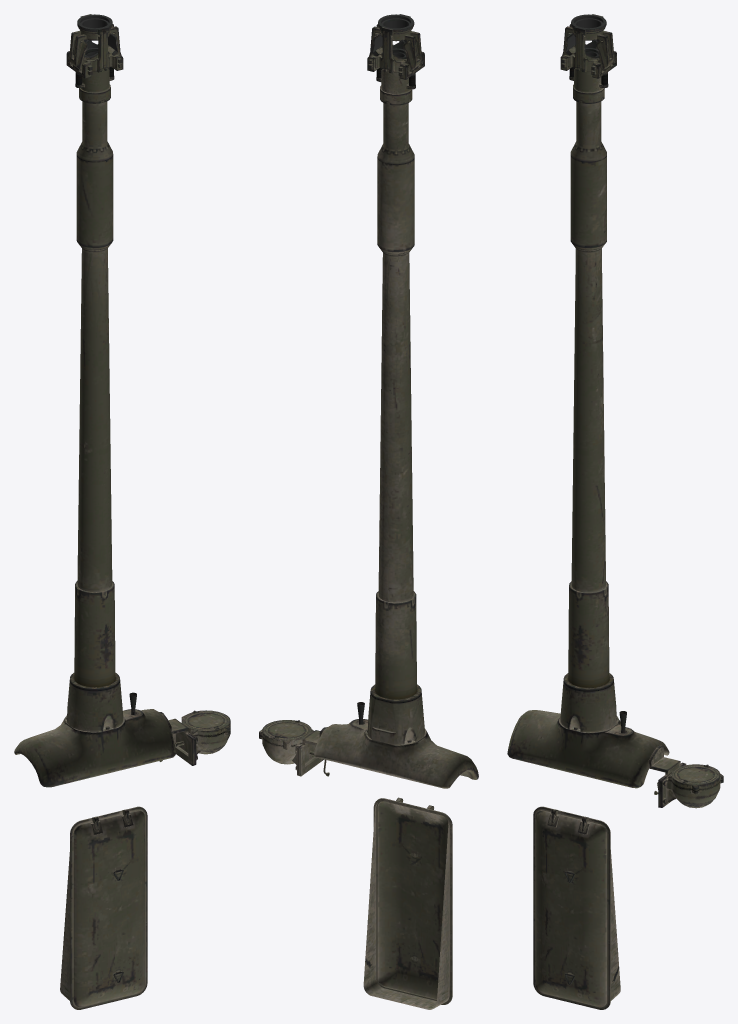
The model's file is Gun_02.glb.
The picture shows the model from 3 angles, left to right: view 1: azimuth 30°, elevation 25°; view 2: azimuth 150°, elevation 25°; view 3: azimuth 330°, elevation 25°; orthographic projection.
Visible parts, largest first — view 1: set_0_group_0; view 2: set_0_group_0; view 3: set_0_group_0.
Part boxes in pixels (x1,y1,x2,y2): set_0_group_0: [14, 14, 230, 1009]; set_0_group_0: [259, 14, 478, 1009]; set_0_group_0: [507, 14, 723, 1009].
Size of the model in its own units: 1.64 by 7.59 by 0.565.
1 material, 1 textured.
